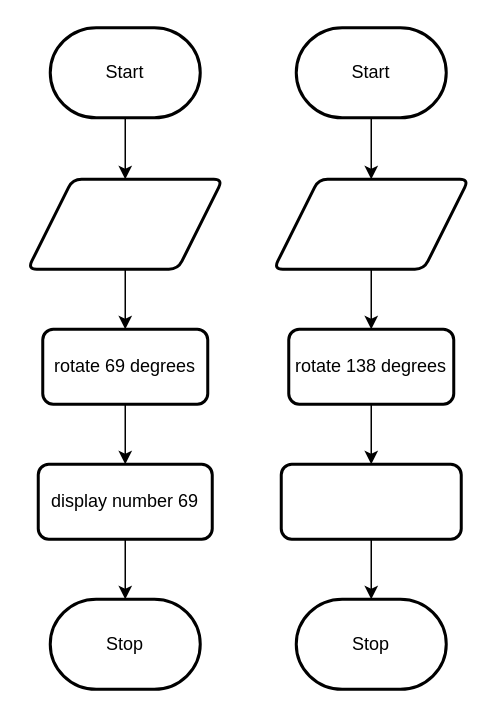
Image size: 495x716. Some labels were removed from this diagram. Here are the shapes that lost their labels. From the top down, the centre of each, then its label:
pixel 125 223: When A button is pressed
pixel 371 223: When B button is pressed
pixel 370 501: display number 138
